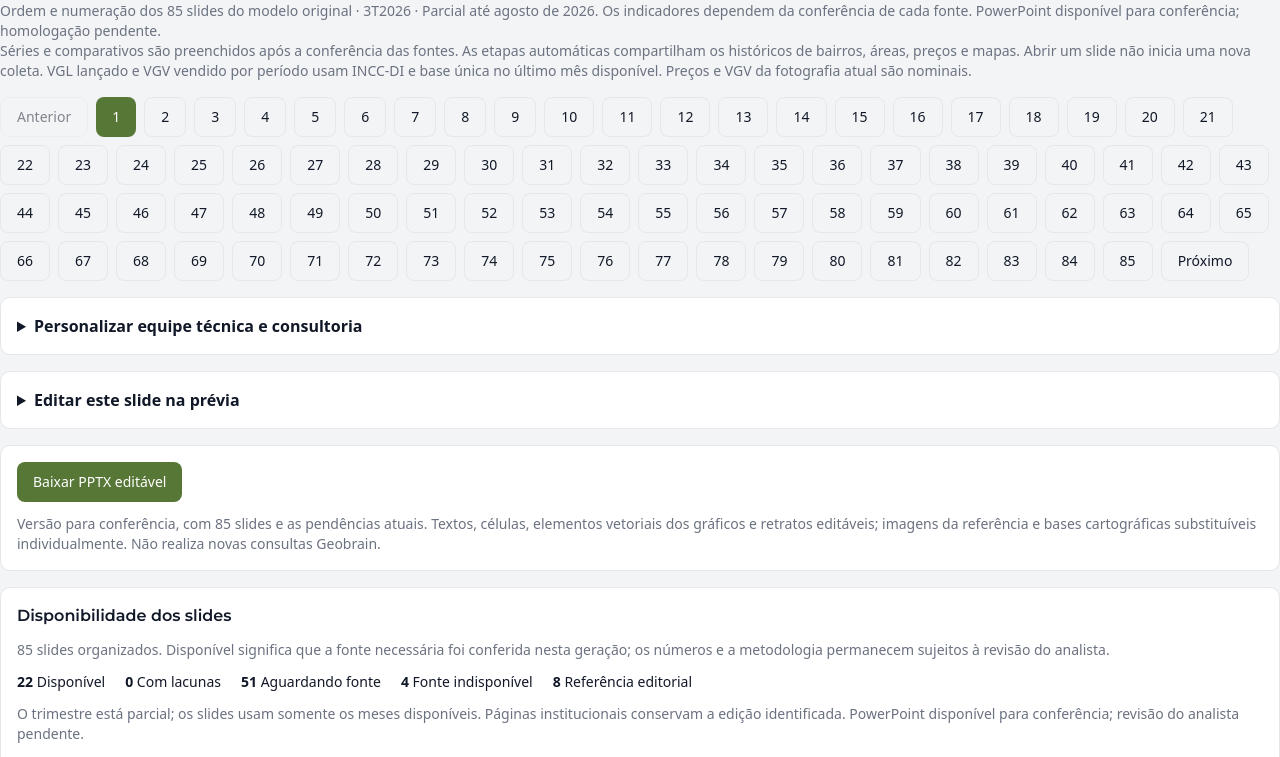
Test: SP — estrutura original e dez slides de lançamentos › mantém gerais quando classificação falta e bloqueia só o recorte
Click the button "13" at (743, 117), box [718,97,768,137]
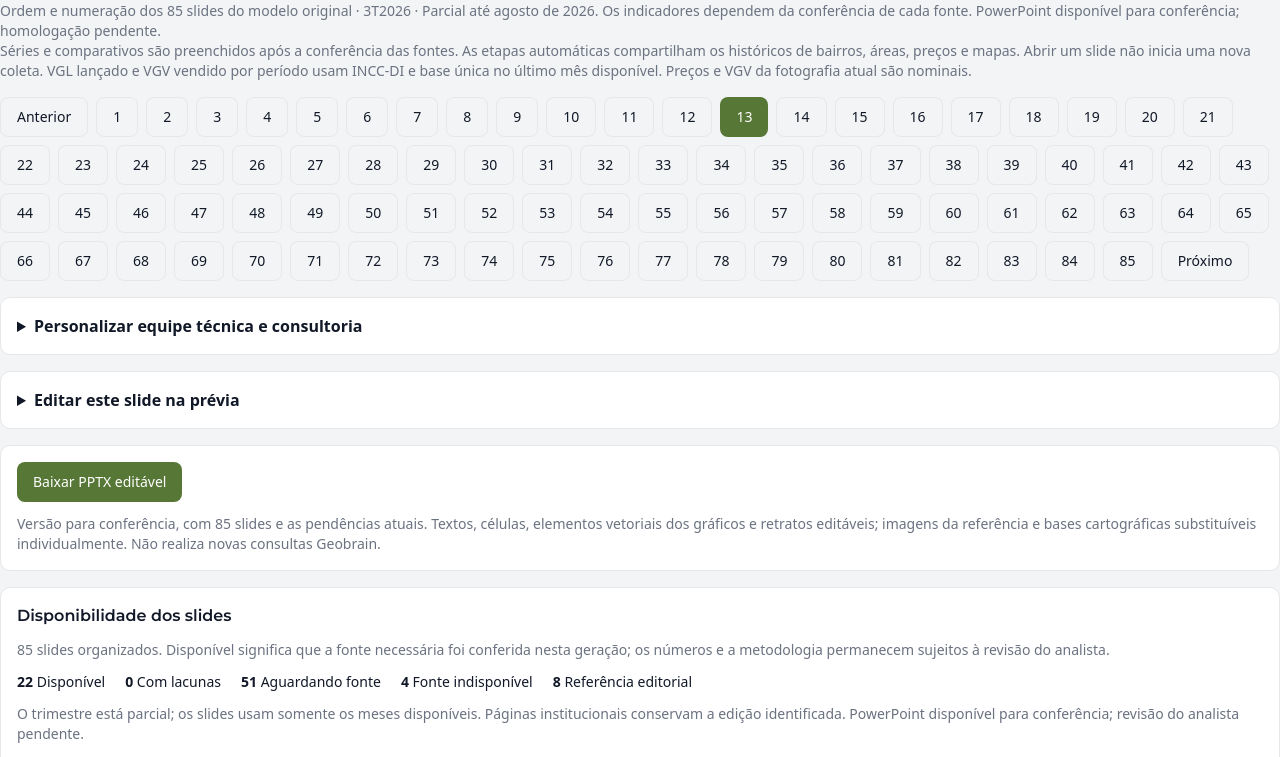
Click the button "15" at (860, 117), box [834,97,884,137]
(page scrolled)
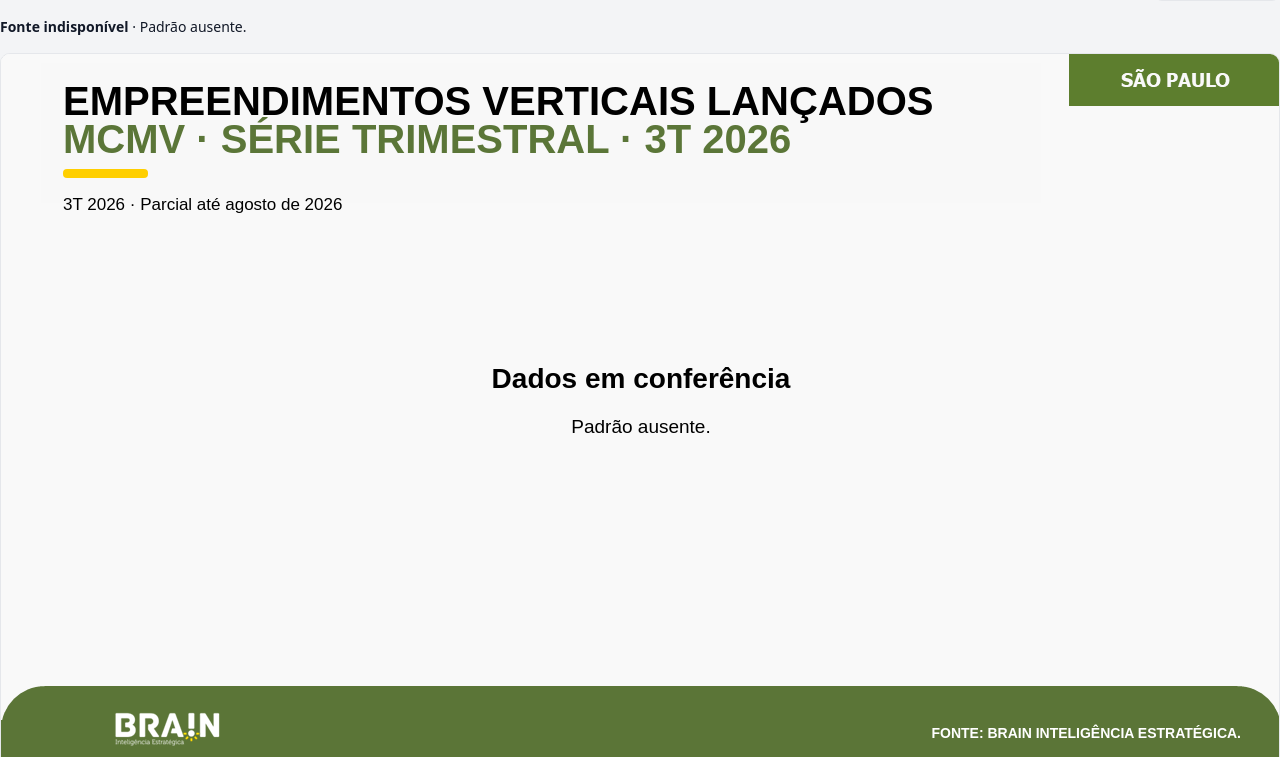
Result: the element named "Slide 15: Empreendimentos lançados MCMV, trimestral" shows "Padrão ausente." at [571,416,711,437]
